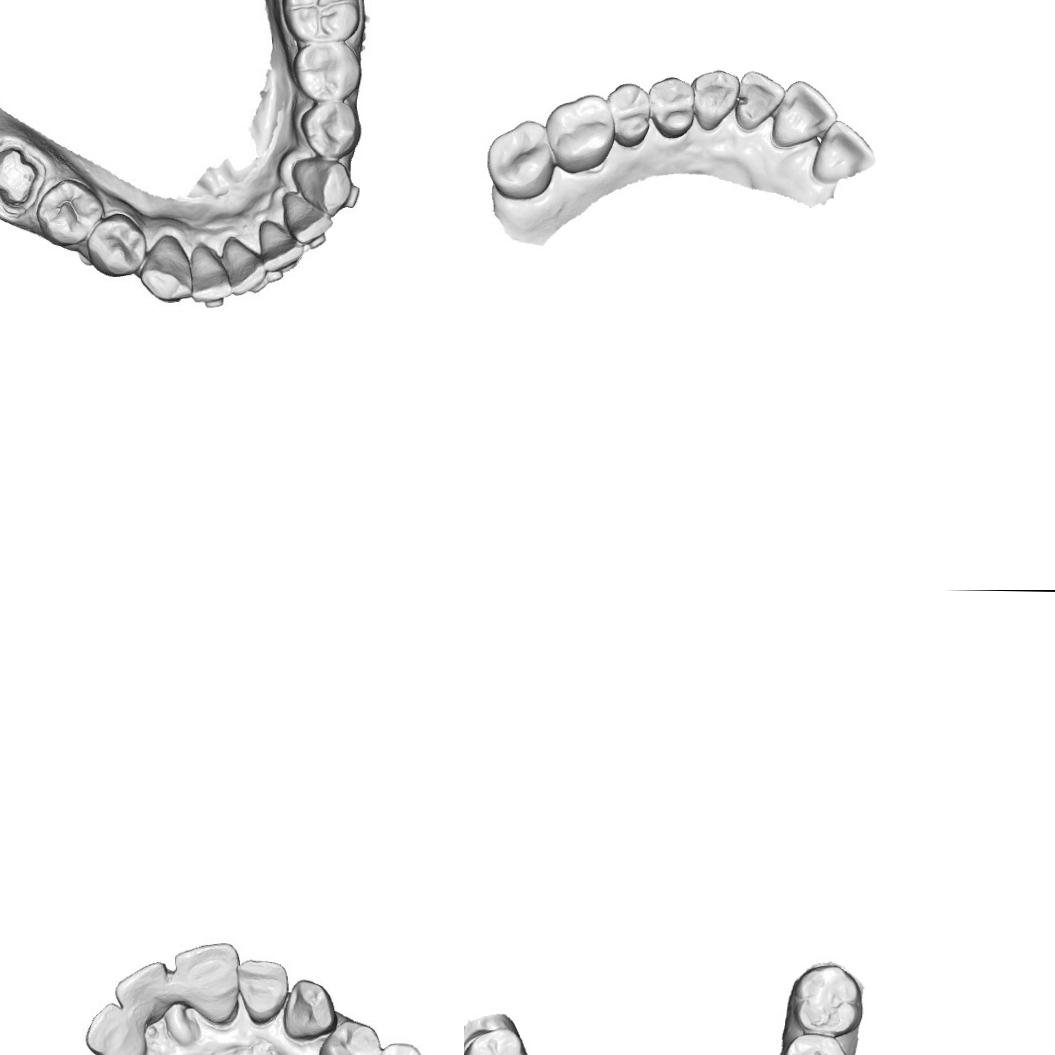canine: (137, 231, 195, 306), (688, 67, 742, 133), (282, 979, 338, 1040), (290, 156, 348, 214)
crown: (0, 143, 39, 210)
incisor: (172, 940, 240, 1025), (768, 78, 838, 150), (809, 118, 877, 186), (114, 960, 170, 1025), (235, 958, 288, 1026), (84, 1001, 148, 1055), (279, 192, 334, 252), (734, 70, 786, 132), (187, 241, 233, 306), (256, 220, 302, 277), (225, 236, 266, 298)
molar: (482, 116, 558, 202), (543, 92, 617, 176), (792, 962, 861, 1038), (276, 0, 362, 45), (464, 1026, 530, 1055), (777, 1031, 850, 1055)
premolar: (33, 176, 107, 248), (288, 42, 362, 106), (84, 210, 146, 284), (300, 100, 362, 160), (646, 74, 696, 140), (606, 80, 652, 148), (317, 1018, 381, 1055)
